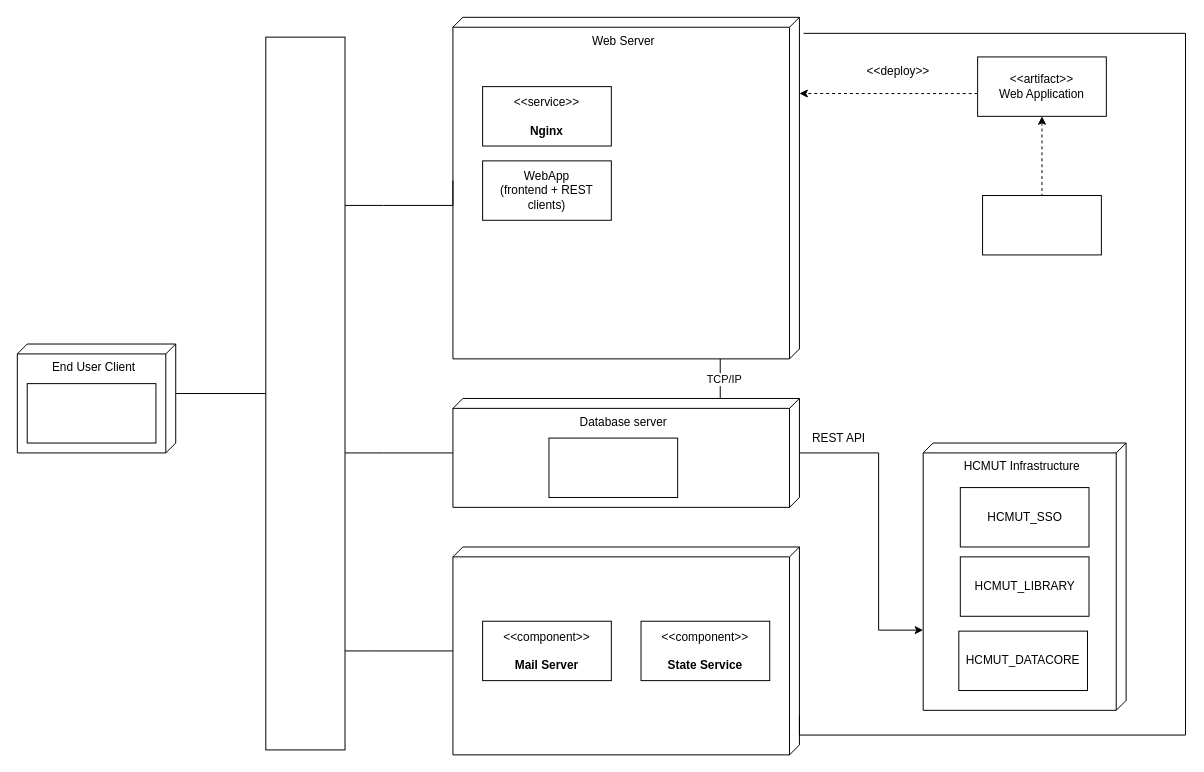
This 1204x772 diagram has some shape labels left out. The centre of each missing label's shape, as x and y in pixels:
<<component>> Browser: (x=91, y=413)
<<component>> Oracle: (x=613, y=467)
<<deployment spec>> Web Deployment Specification: (x=1041, y=225)
Firewall: (x=305, y=393)
